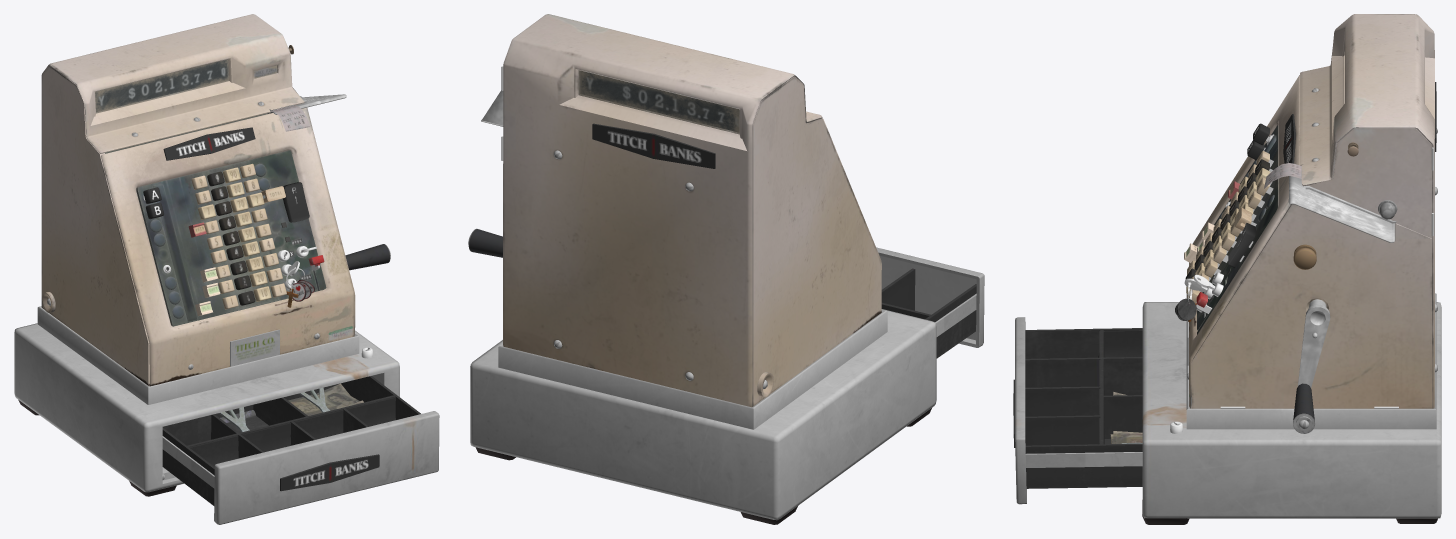
The model's file is register.glb.
3 views of the same model, side by side, from view 1: azimuth 30°, elevation 25°; view 2: azimuth 150°, elevation 25°; view 3: azimuth 270°, elevation 25° (orthographic). The views are drawn at different scales.
Visible parts, largest first — view 1: CashRegister_01_body, CashRegister_011_drawer; view 2: CashRegister_01_body, CashRegister_011_drawer; view 3: CashRegister_01_body, CashRegister_011_drawer.
Boxes of the visible parts, bbox=[...] form: CashRegister_01_body: bbox=[14, 14, 399, 496]; CashRegister_011_drawer: bbox=[162, 376, 439, 524]; CashRegister_01_body: bbox=[468, 14, 936, 524]; CashRegister_011_drawer: bbox=[876, 247, 984, 358]; CashRegister_01_body: bbox=[1142, 14, 1441, 524]; CashRegister_011_drawer: bbox=[1013, 317, 1142, 504].
Bounding box in the file's own units: 1.2 × 1.24 × 1.25.
2 materials, 2 textured.
